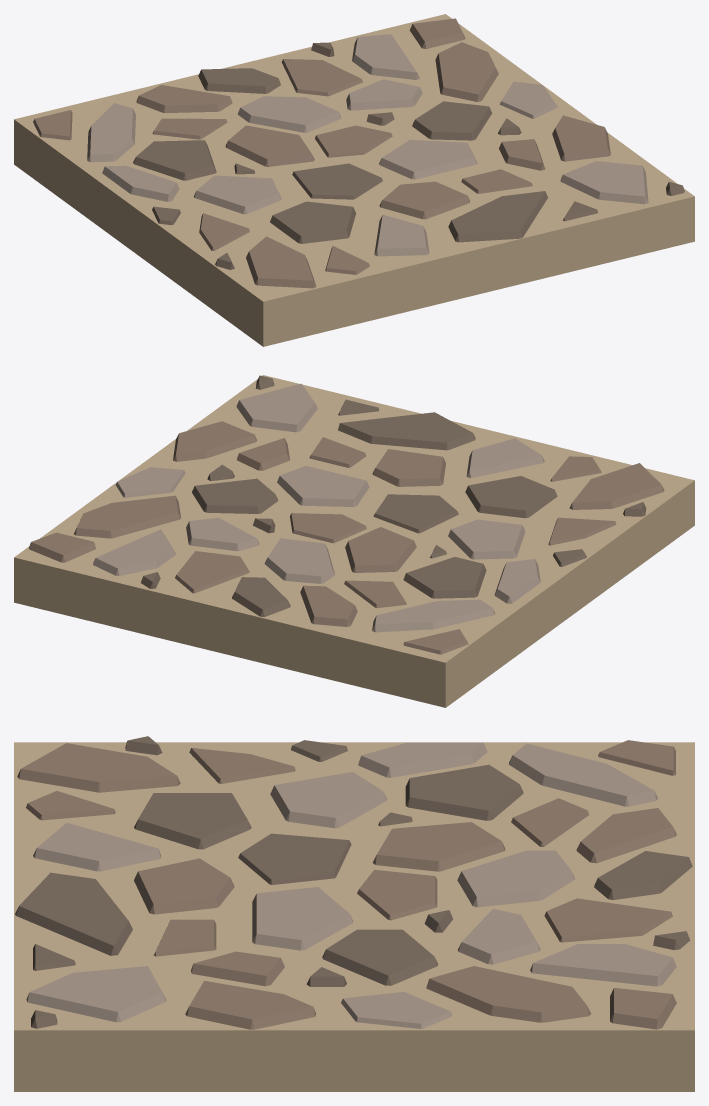
The model's file is Cobblestone_Floor_1.obj.
The picture shows the model from 3 angles, top to bottom: view 1: azimuth 30°, elevation 25°; view 2: azimuth 150°, elevation 25°; view 3: azimuth 270°, elevation 25°; orthographic projection. The views are drawn at different scales.
Visible parts, largest first — view 1: object1; view 2: object1; view 3: object1.
Boxes of the visible parts, x1=… form: object1: x1=14, y1=14, x2=694, y2=346; object1: x1=14, y1=375, x2=694, y2=707; object1: x1=14, y1=736, x2=694, y2=1091.
Size of the model in its own units: 2 by 0.2281 by 2.
